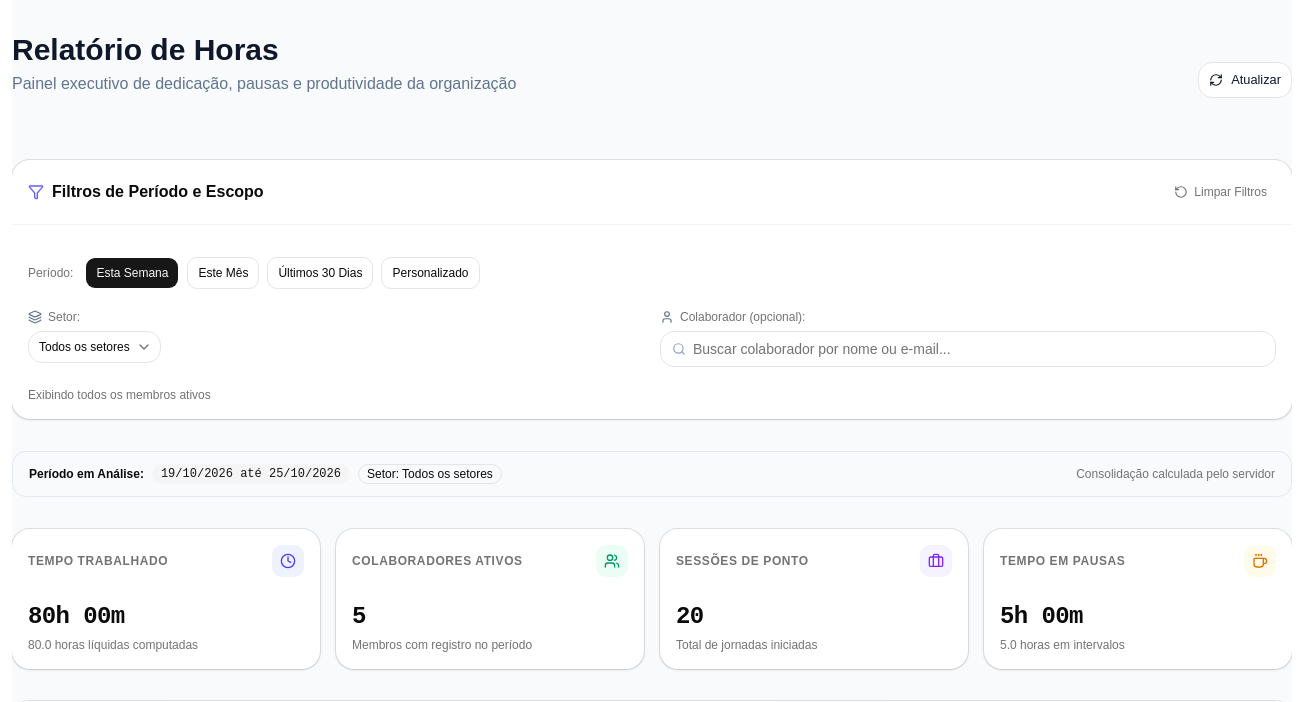
Scenario: HourReport Admin Page (Metrics Summary & Users Breakdown) › deve alternar para o preset "Personalizado" e exibir campos de data
The width and height of the screenshot is (1304, 702).
Expected: the text "80h 00m" is shown, x1=28 y1=603 x2=125 y2=630
Click the button "Personalizado".
click(431, 273)  # box x1=382 y1=257 x2=480 y2=289
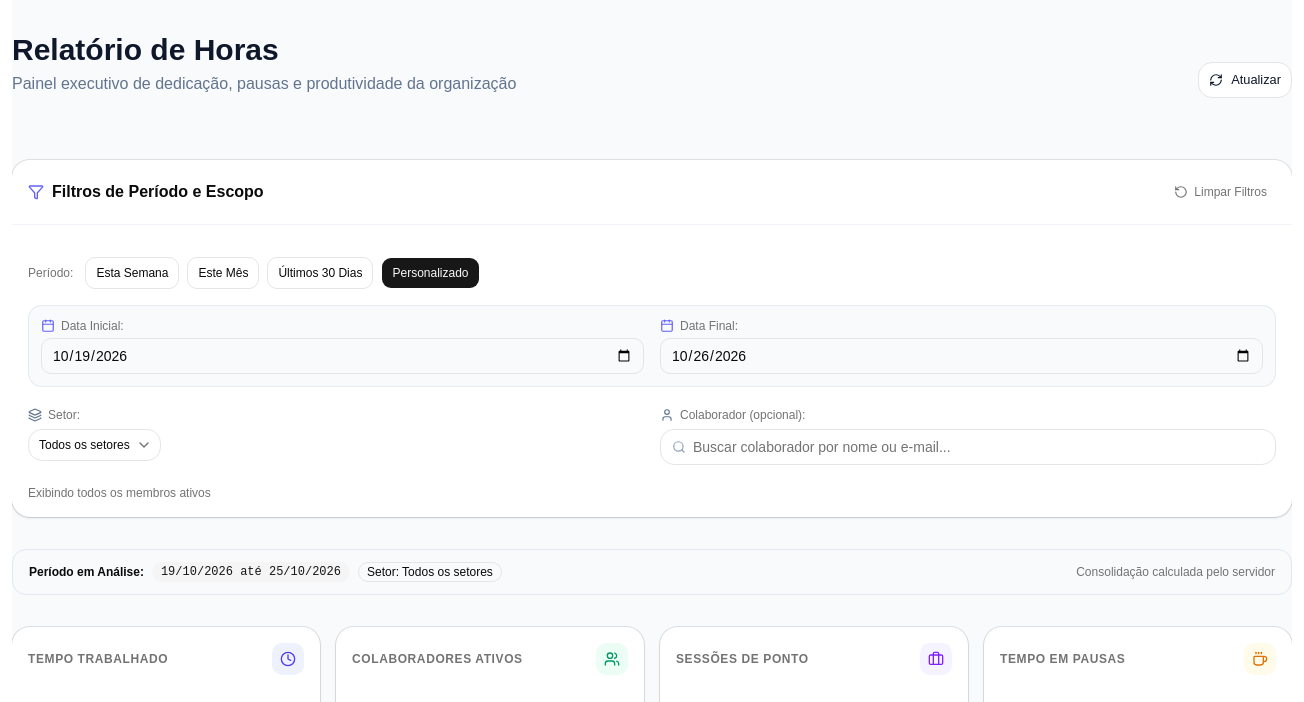
Now the date field labelled "Data Inicial:" is shown, box x1=41 y1=338 x2=644 y2=374
Now the date field labelled "Data Final:" is shown, box x1=660 y1=338 x2=1263 y2=374
